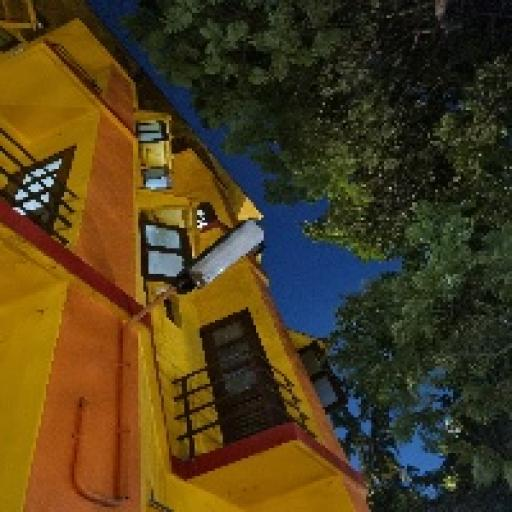Not Working: (159, 210, 280, 308)
